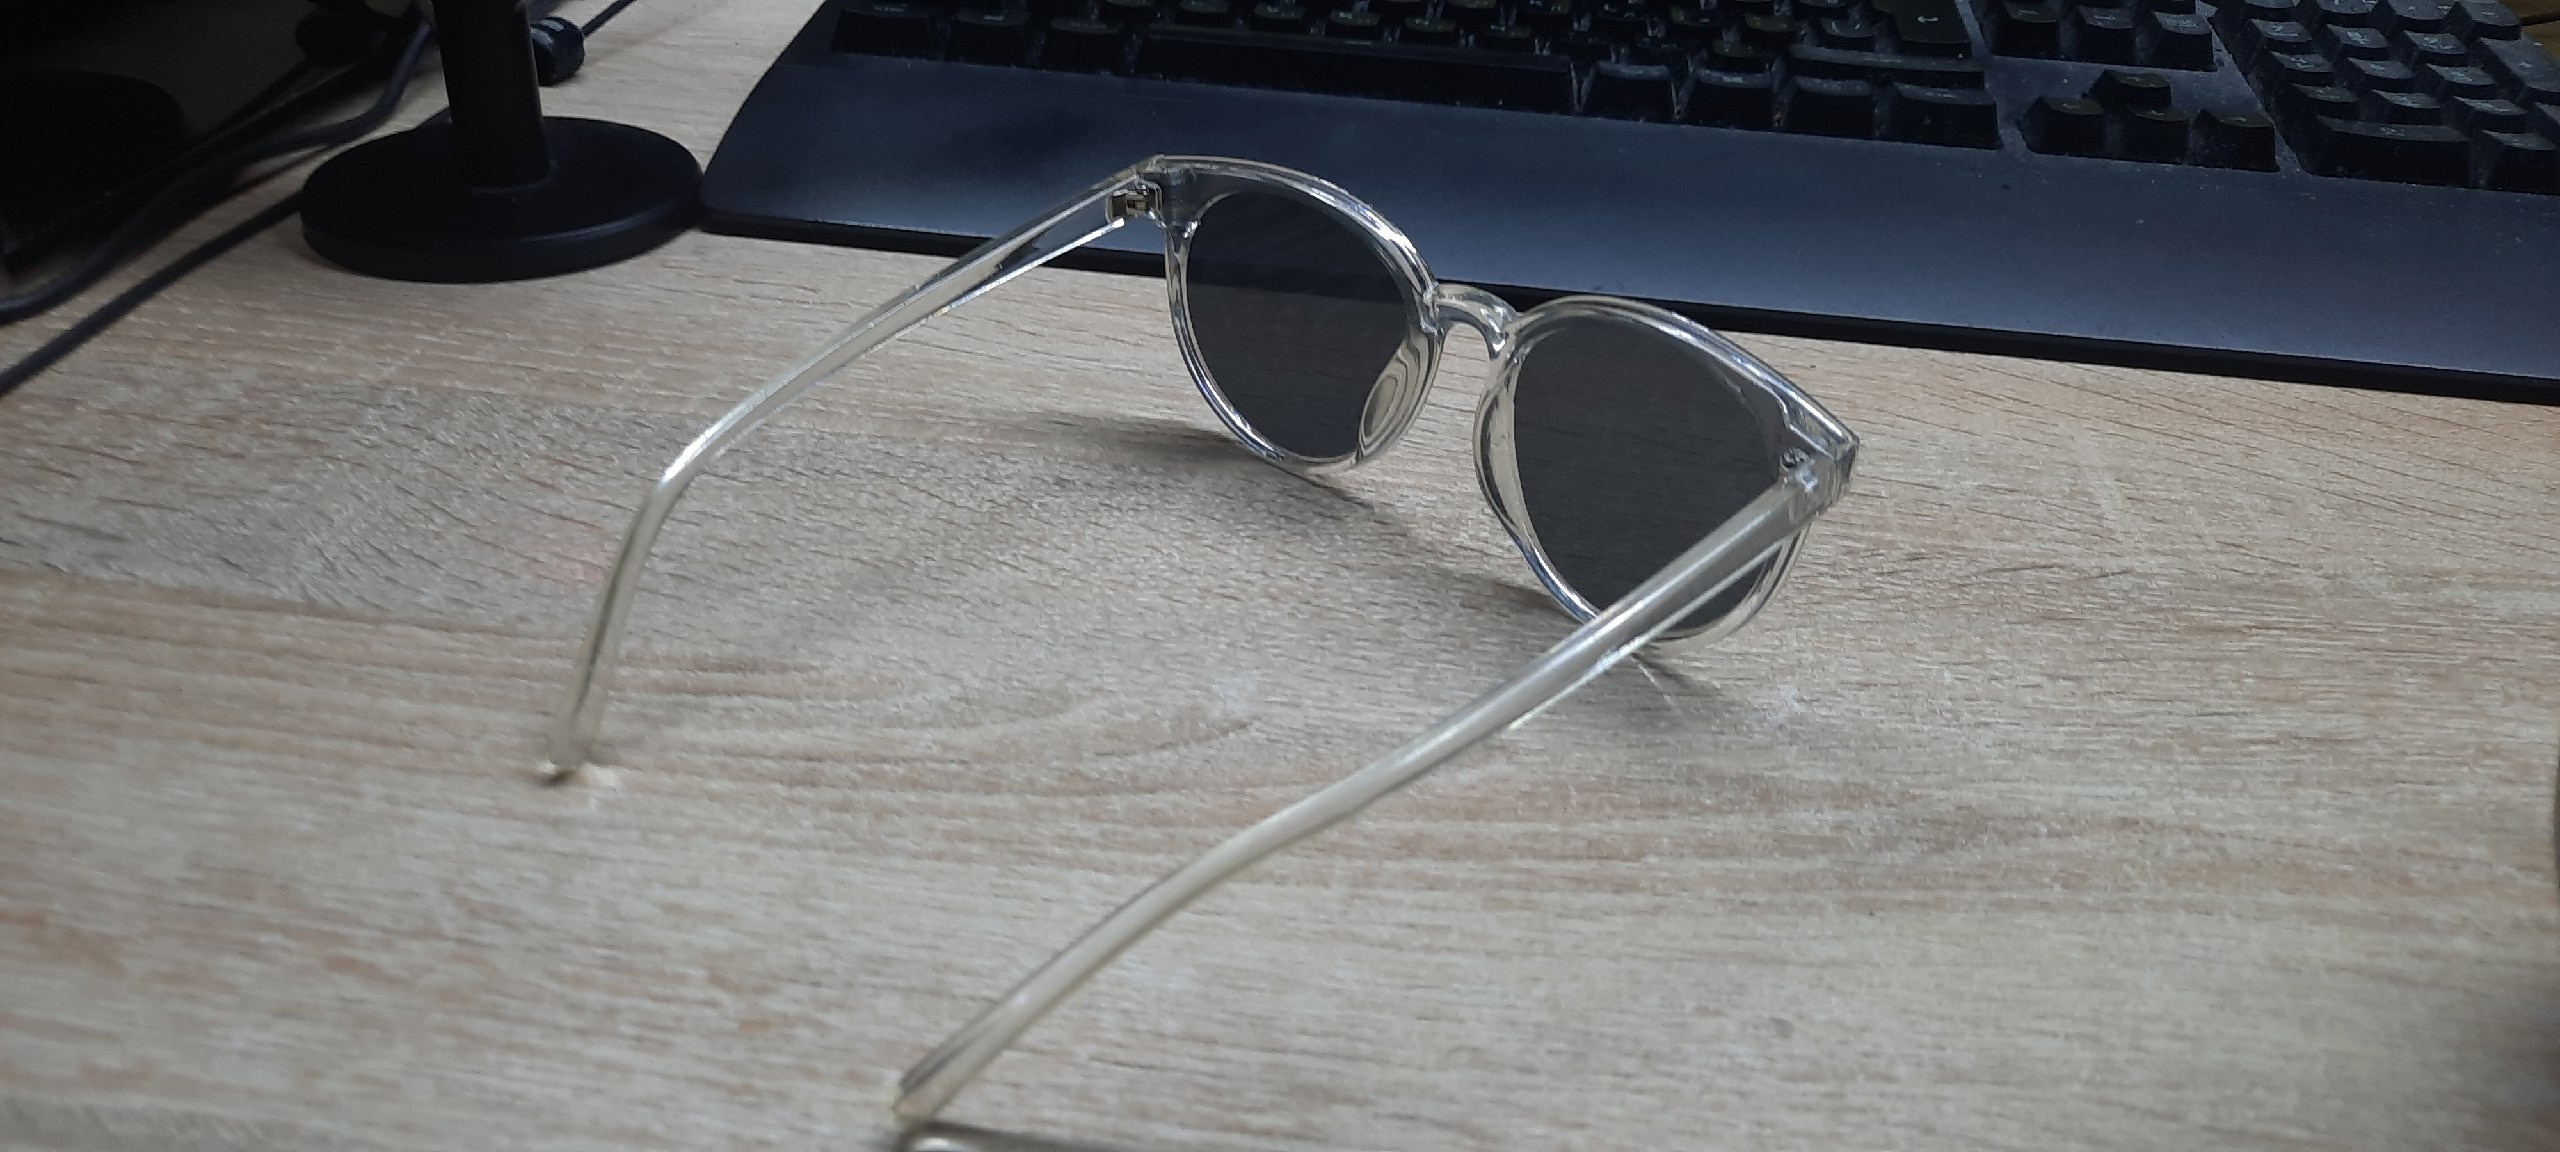glasses: (545, 157, 1856, 1147)
